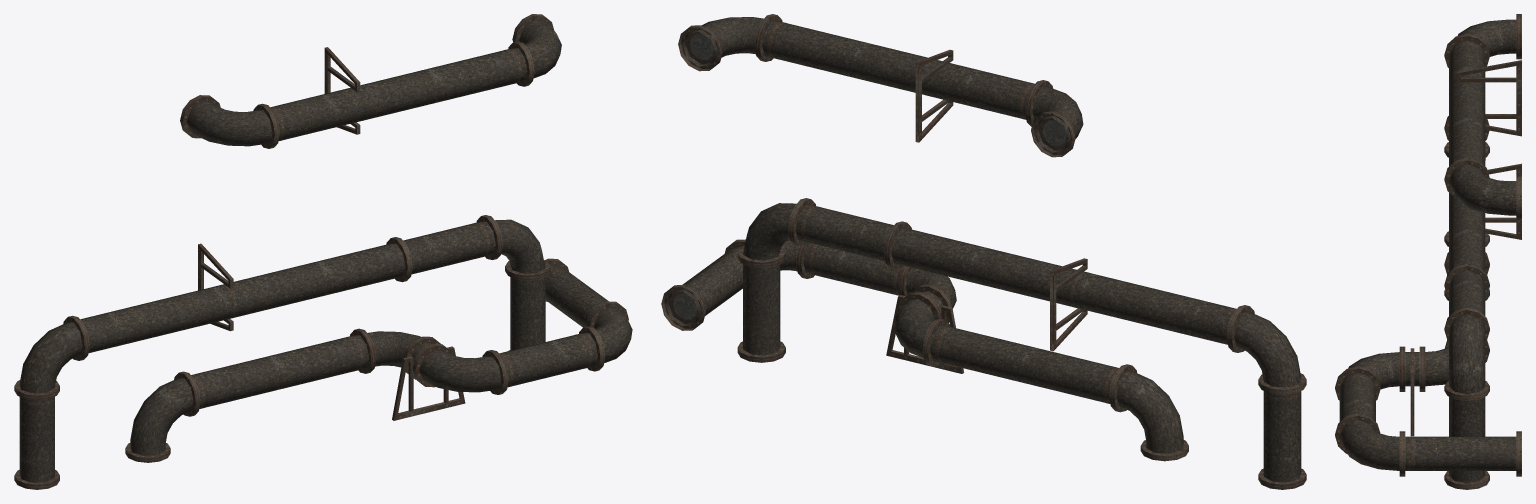
Rendered from SM_Corridor_Pipe_Set_Brown_B.fbx.
3 views of the same model, side by side, from view 1: azimuth 30°, elevation 25°; view 2: azimuth 150°, elevation 25°; view 3: azimuth 270°, elevation 25° (orthographic). The views are drawn at different scales.
Parts seen in each view (by area): view 1: SM_Corridor_Pipe_Set_Brown_B; view 2: SM_Corridor_Pipe_Set_Brown_B; view 3: SM_Corridor_Pipe_Set_Brown_B.
Part boxes in pixels (x1,y1,x2,y2): SM_Corridor_Pipe_Set_Brown_B: (14, 14, 632, 489); SM_Corridor_Pipe_Set_Brown_B: (661, 14, 1306, 489); SM_Corridor_Pipe_Set_Brown_B: (1335, 14, 1521, 489).
Bounding box in the file's own units: 365 × 203 × 102.
